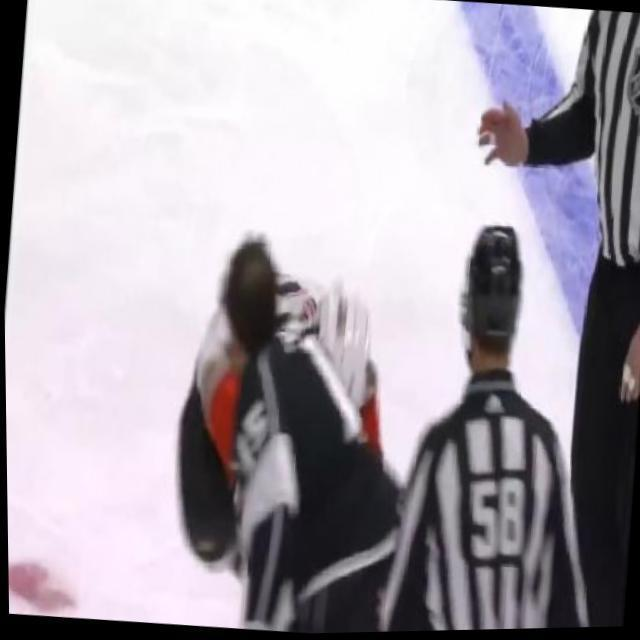fight: (146, 212, 428, 638)
